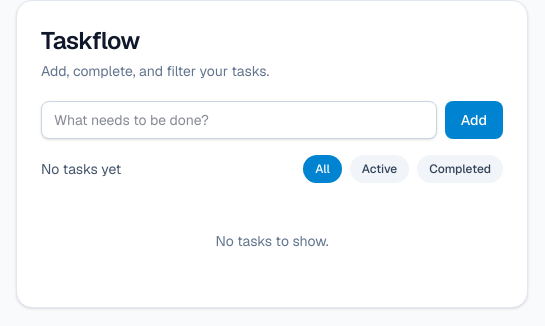
Test: TodoApp › adds, completes, filters, and deletes todos
The width and height of the screenshot is (545, 326).
In the field named "New task": (239, 120) [41, 101, 437, 139], type "Write tests"
Click the button "Add": click(474, 120) [445, 101, 503, 139]
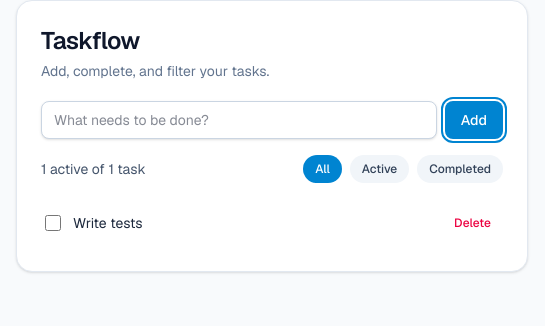
Expected: the text "Write tests" is shown, [73, 214, 143, 232]
Expected: the text "1 active of 1 task" is shown, [41, 159, 146, 179]
Click the checkbox named "Mark \"Write tests\" as completed": click(53, 223) [45, 215, 61, 231]
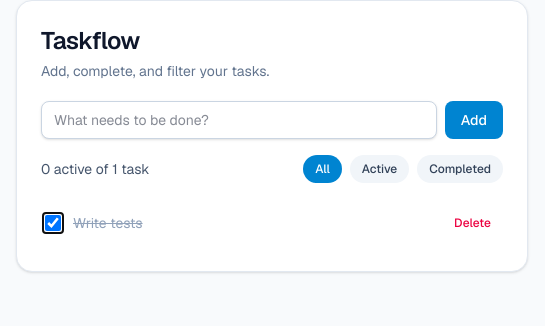
Expected: the text "0 active of 1 task" is shown, [41, 159, 150, 179]
Click the button "Active": click(380, 169) [350, 155, 409, 183]
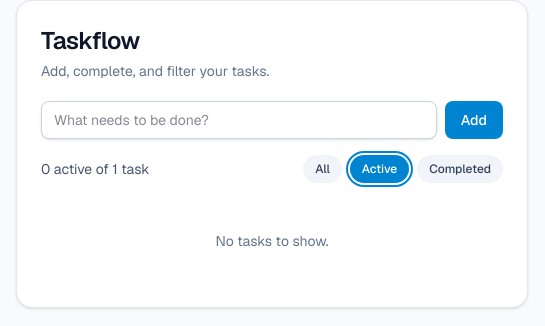
Expected: the text "No tasks to show." is shown, [215, 232, 329, 250]
Click the button "Completed": click(460, 169) [417, 155, 503, 183]
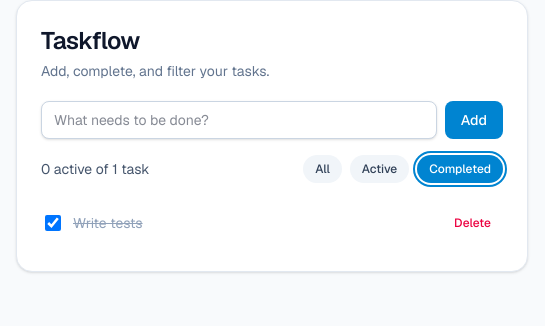
Expected: the text "Write tests" is shown, [73, 214, 143, 232]
Click the button "All": click(323, 169) [303, 155, 342, 183]
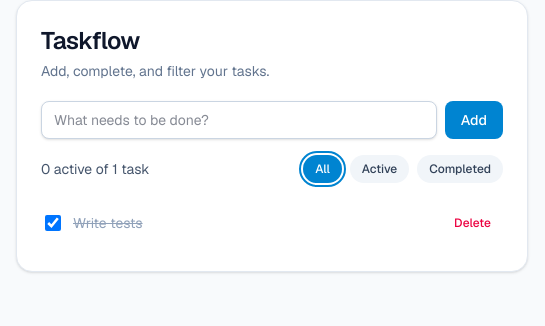
Click the button named "Delete \"Write tests\"": click(473, 223) [446, 211, 499, 235]
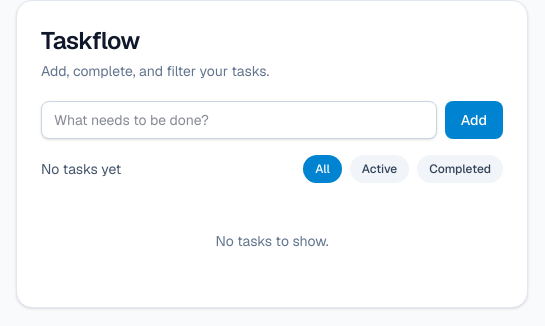
Expected: the text "No tasks yet" is shown, [41, 159, 121, 179]
